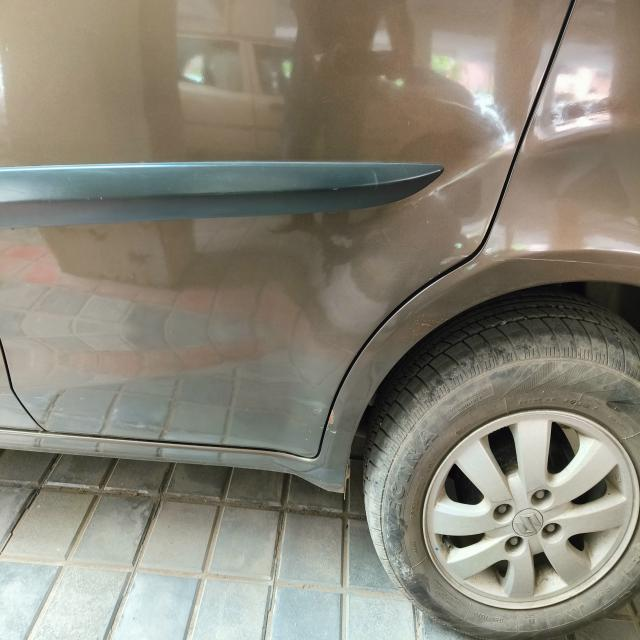scratch: (461, 229, 629, 287)
